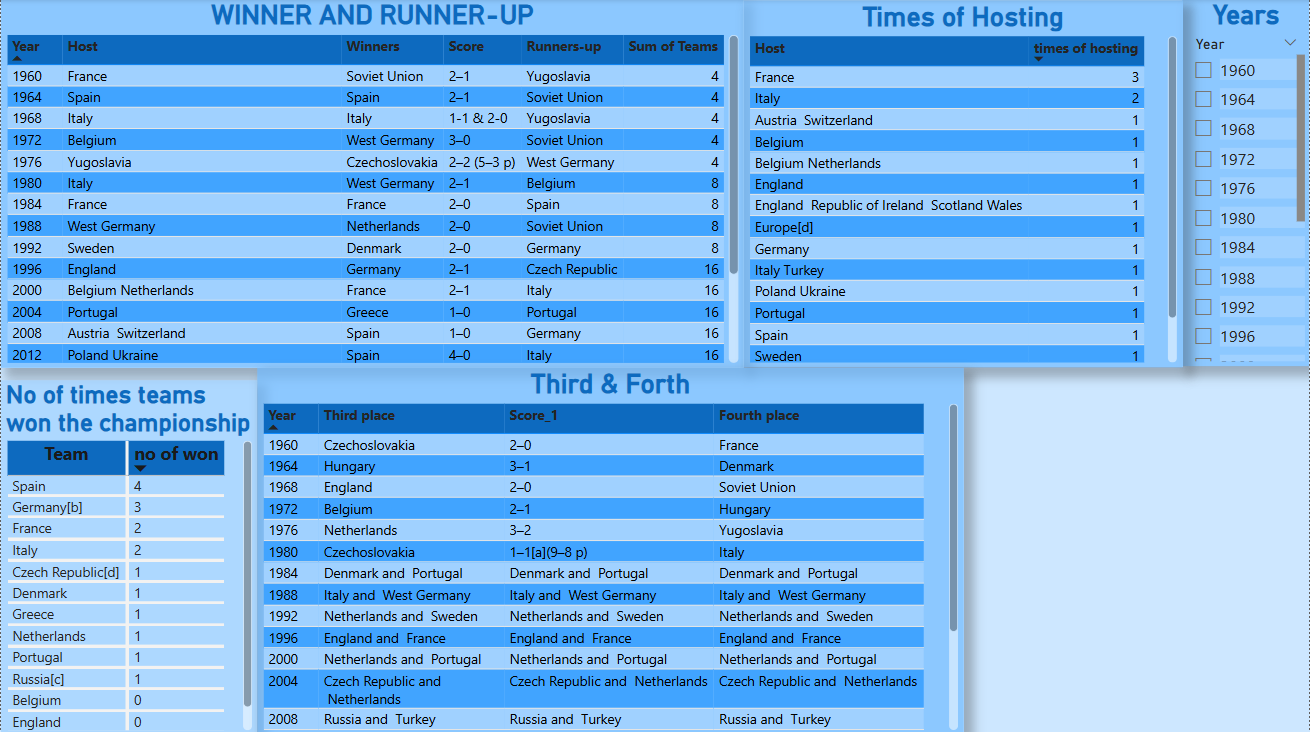

The page's visual inventory and layout, read from the dashboard file:
{"tool":"powerbi","page":{"name":"Page 1","canvas":[1280,720],"ordinal":0},"visuals":[{"type":"tableEx","title":"WINNER AND RUNNER-UP","fields":{"Values":["Table 3.Year","Table 3.Host","Table 3.Winners","Table 3.Score","Table 3.Runners-up","Sum(Table 3.Teams)"]},"box":[0,0,726.4,360.7],"z":0},{"type":"tableEx","title":"No of times teams won the championship","fields":{"Values":["Performances in the UEFA European Championship by team.Team","Performances in the UEFA European Championship by team.no of won"]},"box":[0,373,250.7,347.3],"z":1000},{"type":"slicer","title":"Years","fields":{"Values":["Table 3.Year"]},"box":[1155.6,0,124.7,359.5],"z":2000},{"type":"tableEx","title":"Times of Hosting","fields":{"Values":["Table 3.Host","CountNonNull(Table 3.Host)"]},"box":[726.4,1.2,429.2,359.5],"z":3000},{"type":"tableEx","title":"Third & Forth","fields":{"Values":["Table 3.Year","Table 3.Third place","Table 3.Score_1","Table 3.Fourth place"]},"box":[250.7,360.7,600.4,359.5],"z":4000}]}

Visuals, with their boxes in screenshot pixels (x1, y1, x2, y2), scaled from the page's 1280x720 canvas onto the 1310x732 screenshot:
"WINNER AND RUNNER-UP" tableEx: crop(0, 0, 743, 367)
"No of times teams won the championship" tableEx: crop(0, 379, 257, 731)
"Years" slicer: crop(1183, 0, 1309, 365)
"Times of Hosting" tableEx: crop(743, 1, 1183, 367)
"Third & Forth" tableEx: crop(257, 367, 871, 731)
